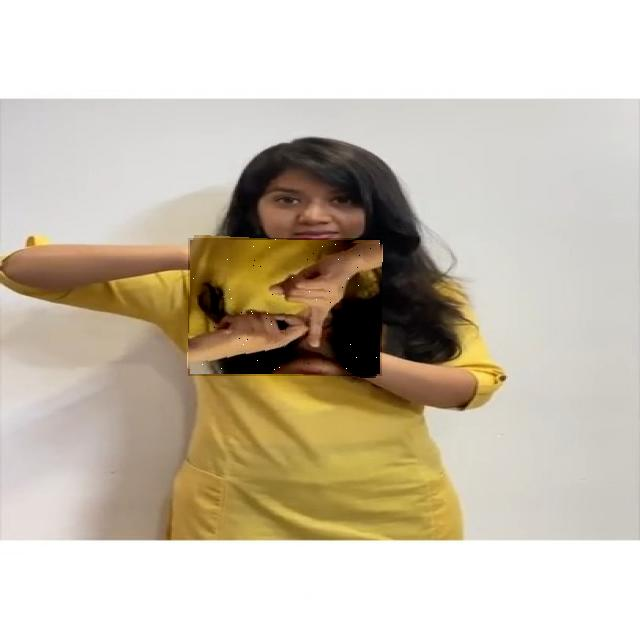K: (188, 238, 382, 376)
